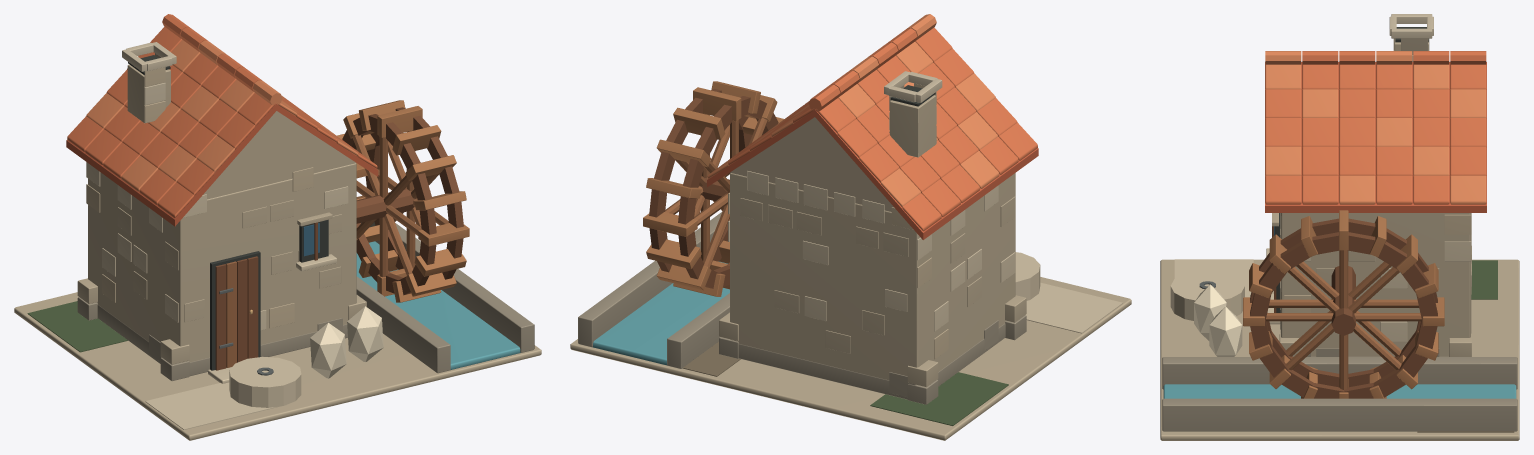
The model's file is mill.glb.
3 views of the same model, side by side, from view 1: azimuth 30°, elevation 25°; view 2: azimuth 150°, elevation 25°; view 3: azimuth 270°, elevation 25° (orthographic). The views are drawn at different scales.
Visible parts, largest first — view 1: mill; view 2: mill; view 3: mill.
Boxes of the visible parts, bbox=[...] form: mill: bbox=[14, 14, 541, 440]; mill: bbox=[570, 14, 1131, 440]; mill: bbox=[1160, 14, 1519, 440].
Bounding box in the file's own units: 3.25 × 2.45 × 2.8.
